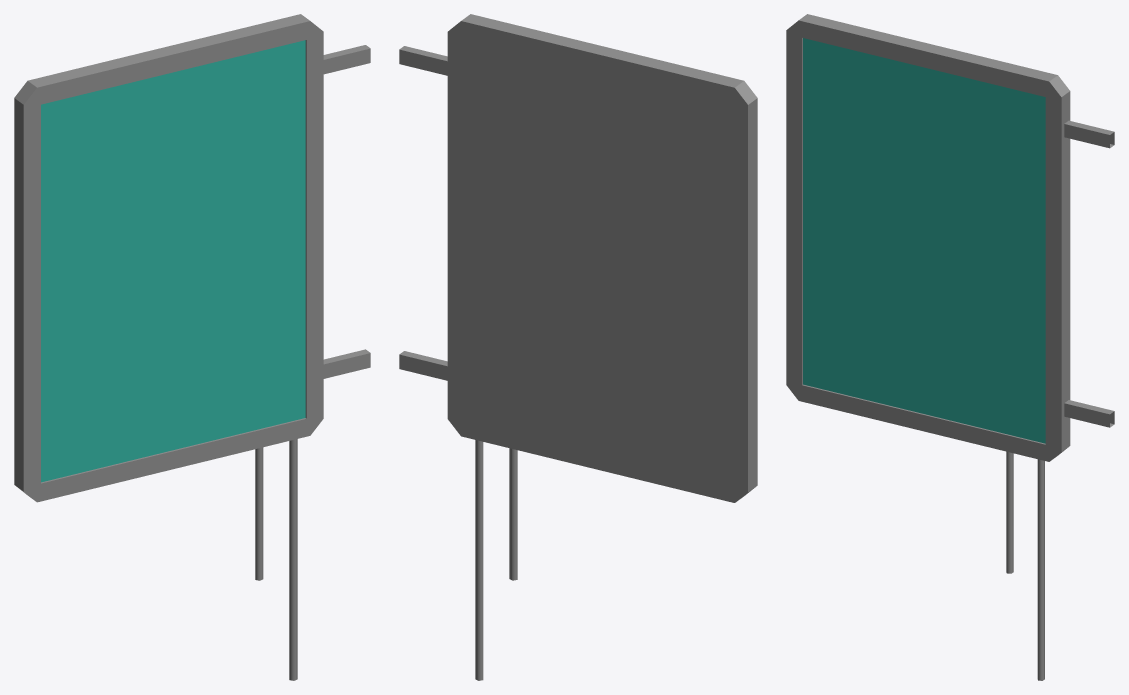
Rendered from advertis pole pic L 1.FBX.
3 renders of one model, left to right at view 1: azimuth 30°, elevation 25°; view 2: azimuth 150°, elevation 25°; view 3: azimuth 330°, elevation 25°, orthographic. The views are drawn at different scales.
Visible parts, largest first — view 1: Box168; view 2: Box168; view 3: Box168.
Part boxes in pixels (left/top/right/bottom): Box168: left=14, top=14, right=370, bottom=680; Box168: left=399, top=14, right=757, bottom=680; Box168: left=786, top=14, right=1114, bottom=680.
Size of the model in its own units: 1.84 by 3.3 by 0.0868.
